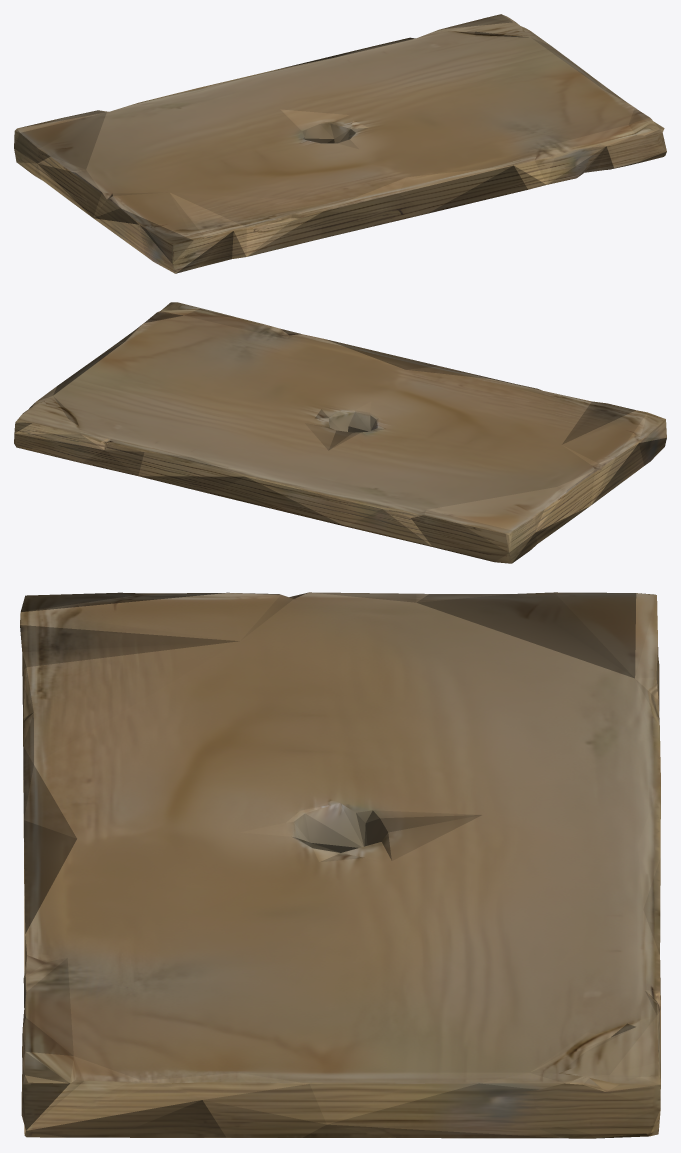
File: Drilled Wood.fbx
3 views of the same model, one above another, from view 1: azimuth 30°, elevation 25°; view 2: azimuth 150°, elevation 25°; view 3: azimuth 270°, elevation 25° (orthographic). The views are drawn at different scales.
Parts seen in each view (by area): view 1: material; view 2: material; view 3: material.
Part boxes in pixels (x1=…): material: x1=14, y1=14, x2=666, y2=273; material: x1=14, y1=302, x2=666, y2=563; material: x1=20, y1=592, x2=660, y2=1138.
Bounding box in the file's own units: 1.05 × 0.069 × 0.5863.
1 material, 1 textured.
